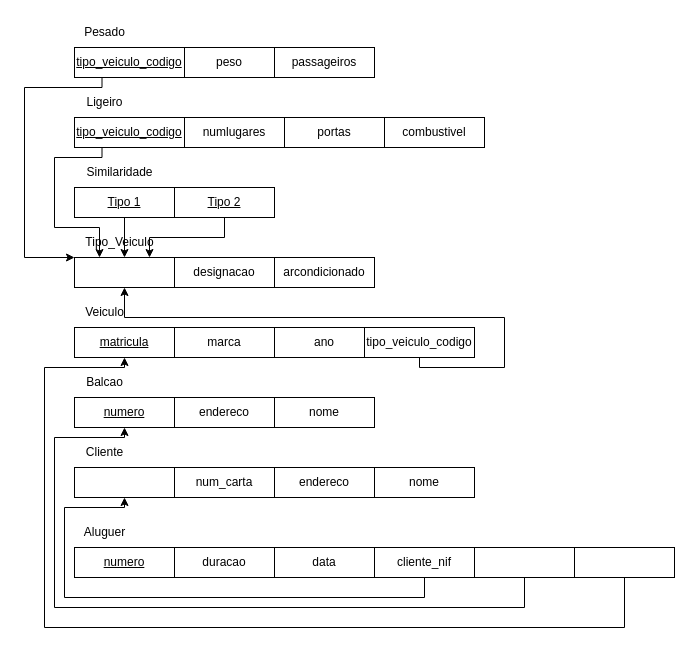
This 692x653 diagram has some shape labels left out. Here are the shapes that lost their labels. From the top down, the centre of each, then its label:
At (x=124, y=272): "codigo".
At (x=124, y=482): "NIF".
At (x=524, y=562): "balcao_numero".
At (x=624, y=562): "veiculo_matricula".
